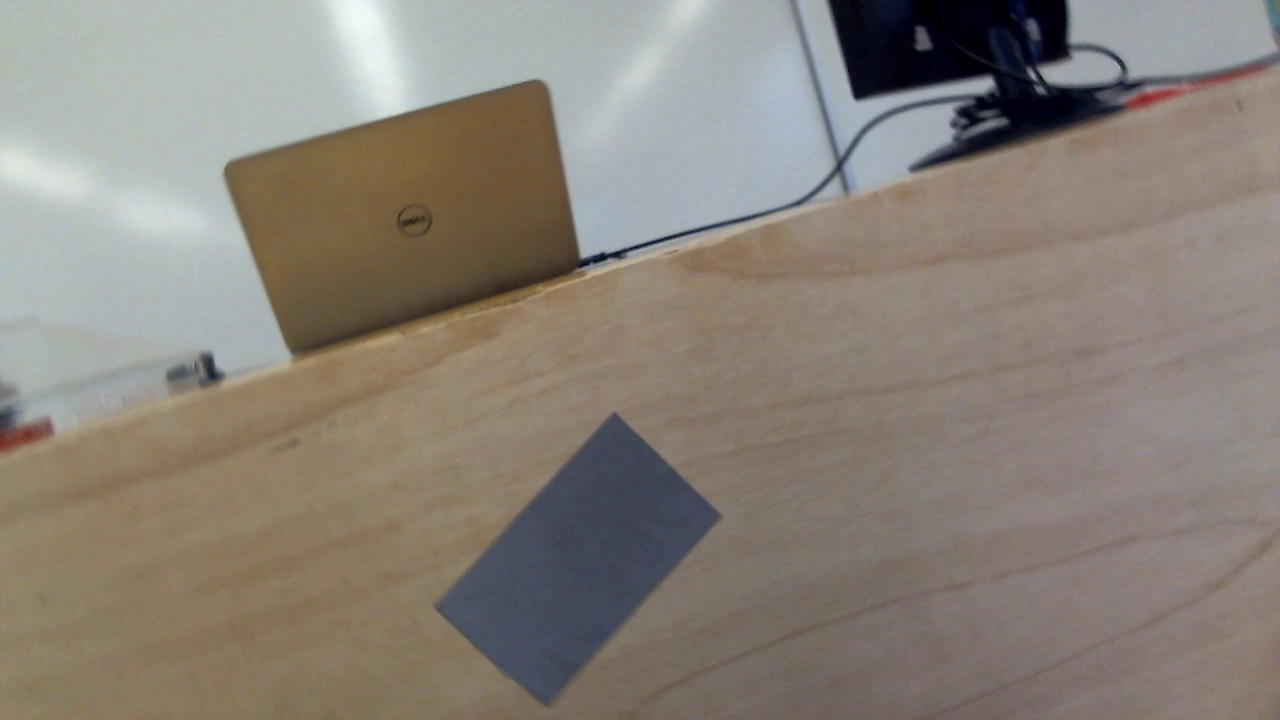Tape: (434, 414, 722, 709)
